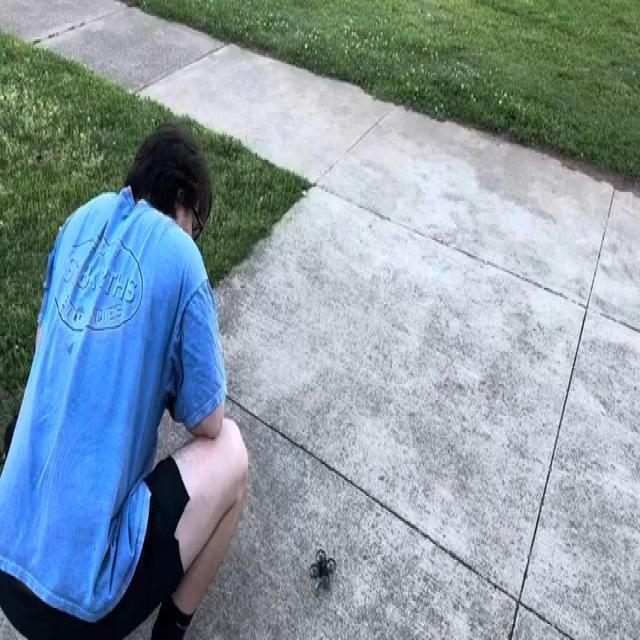drone: (301, 532, 343, 615)
